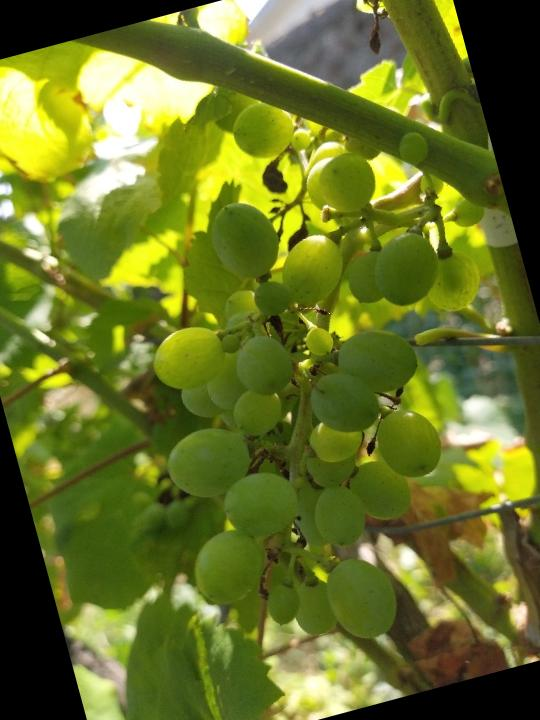grape: (77, 53, 540, 686)
